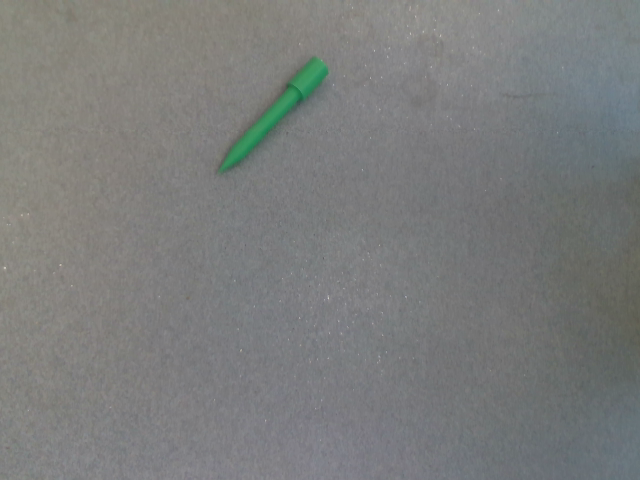Probe: (211, 51, 335, 181)
